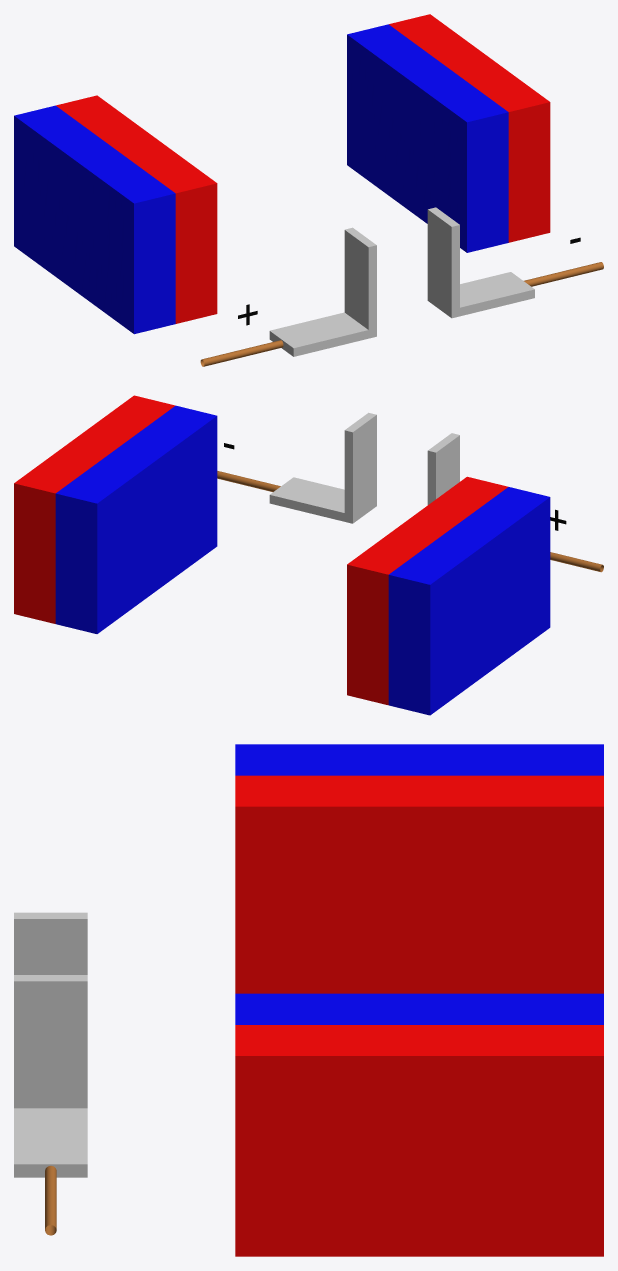
File: DCmotormagnet.glb
3 views of the same model, one above another, from view 1: azimuth 30°, elevation 25°; view 2: azimuth 150°, elevation 25°; view 3: azimuth 270°, elevation 25° (orthographic). The views are drawn at different scales.
Parts seen in each view (by area): view 1: Cube, Cube.001, NURBSパス.008, NURBSパス.002, NURBSパス.001; view 2: Cube, Cube.001, NURBSパス.008, NURBSパス.001, NURBSパス.002; view 3: Cube.001, Cube, NURBSパス.008, NURBSパス.001.
Part boxes in pixels (x1,y1,x2,y2): Cube: (14,95,217,334); Cube.001: (347,14,550,252); NURBSパス.008: (269,207,534,356); NURBSパス.002: (200,340,283,366); NURBSパス.001: (524,262,603,286); Cube: (347,476,550,715); Cube.001: (14,395,217,633); NURBSパス.008: (269,412,459,523); NURBSパス.001: (217,471,280,491); NURBSパス.002: (550,552,603,572); Cube.001: (235,993,603,1256); Cube: (235,744,603,993); NURBSパス.008: (14,912,87,1177); NURBSパス.001: (45,1166,56,1235).
Bounding box in the file's own units: 10 × 3 × 8.
